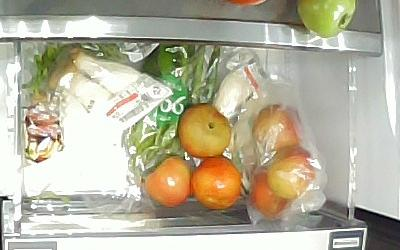prune: (176, 101, 231, 157), (189, 154, 240, 208), (143, 154, 192, 207)
prune_vinyl: (265, 153, 316, 201), (251, 103, 304, 149), (248, 170, 290, 219)
